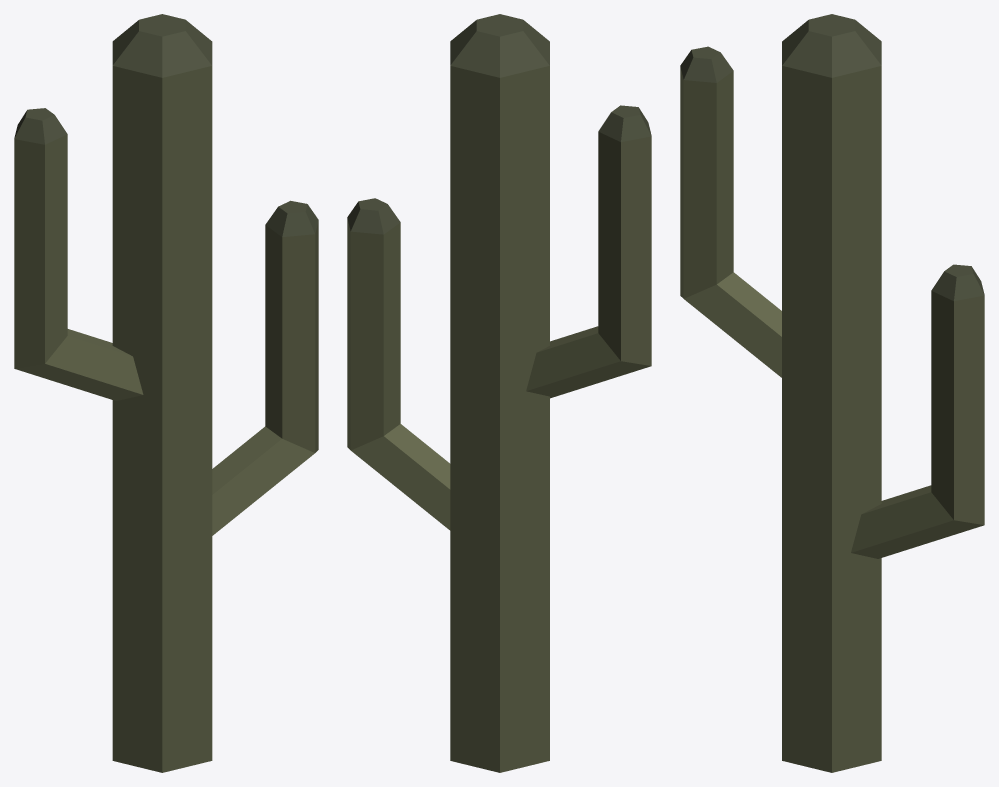
File: TB_D_Env_CactusC_C.FBX
3 views of the same model, side by side, from view 1: azimuth 30°, elevation 25°; view 2: azimuth 150°, elevation 25°; view 3: azimuth 330°, elevation 25° (orthographic).
Parts seen in each view (by area): view 1: TB_D_Env_CactusC_C; view 2: TB_D_Env_CactusC_C; view 3: TB_D_Env_CactusC_C.
Boxes of the visible parts, left/top/right/bottom form: TB_D_Env_CactusC_C: left=14, top=14, right=318, bottom=772; TB_D_Env_CactusC_C: left=347, top=14, right=651, bottom=772; TB_D_Env_CactusC_C: left=680, top=14, right=984, bottom=772.
Size of the model in its own units: 1.83 by 4.16 by 0.5196.
